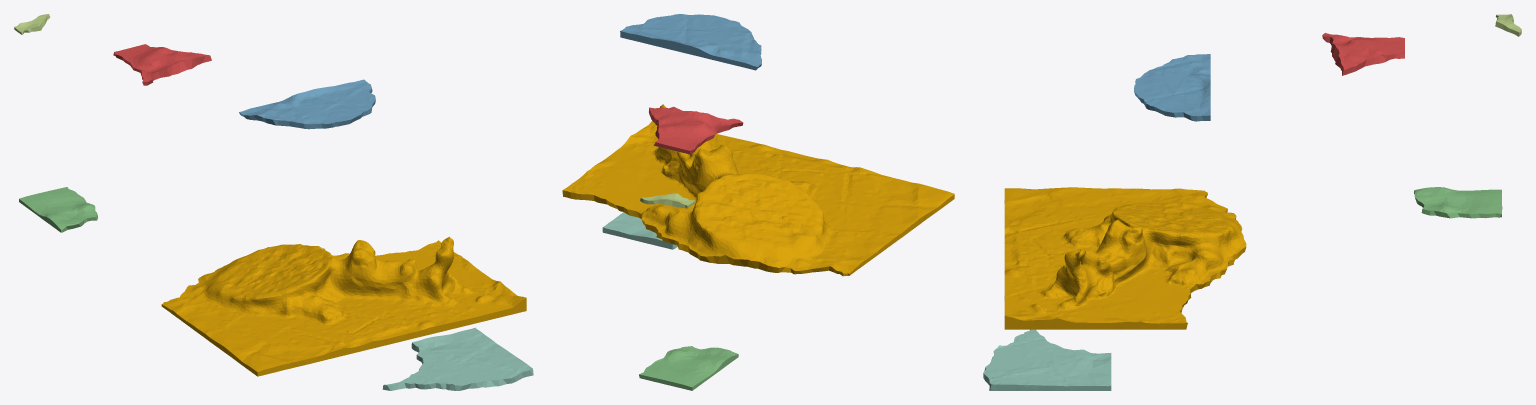
File: fractured_20_6pcs_transformed.glb
The picture shows the model from 3 angles, left to right: view 1: azimuth 30°, elevation 25°; view 2: azimuth 150°, elevation 25°; view 3: azimuth 270°, elevation 25°; orthographic projection. The views are drawn at different scales.
Parts seen in each view (by area): view 1: piece_0.obj, piece_4.obj, piece_2.obj, piece_3.obj, piece_1.obj; view 2: piece_0.obj, piece_2.obj, piece_3.obj, piece_1.obj, piece_4.obj, piece_5.obj; view 3: piece_0.obj, piece_4.obj, piece_2.obj, piece_3.obj, piece_1.obj.
Part boxes in pixels (<box>): piece_0.obj: <box>161,236,526,376</box>; piece_4.obj: <box>382,327,533,390</box>; piece_2.obj: <box>239,79,375,129</box>; piece_3.obj: <box>19,187,97,232</box>; piece_1.obj: <box>113,44,211,85</box>; piece_0.obj: <box>562,104,954,276</box>; piece_2.obj: <box>620,14,761,70</box>; piece_3.obj: <box>639,346,738,390</box>; piece_1.obj: <box>649,106,743,154</box>; piece_4.obj: <box>602,212,677,249</box>; piece_5.obj: <box>640,193,695,208</box>; piece_0.obj: <box>1004,187,1246,329</box>; piece_4.obj: <box>983,329,1111,390</box>; piece_2.obj: <box>1134,54,1210,121</box>; piece_3.obj: <box>1414,187,1502,218</box>; piece_1.obj: <box>1322,33,1404,75</box>.
Size of the model in its own units: 1 by 0.8407 by 1.66.
